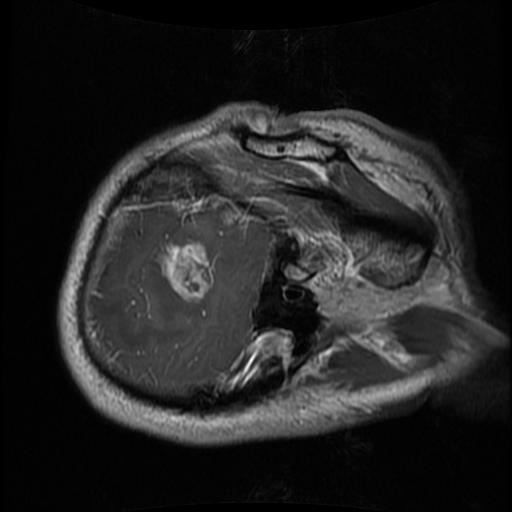glioma: (153, 239, 208, 306)
